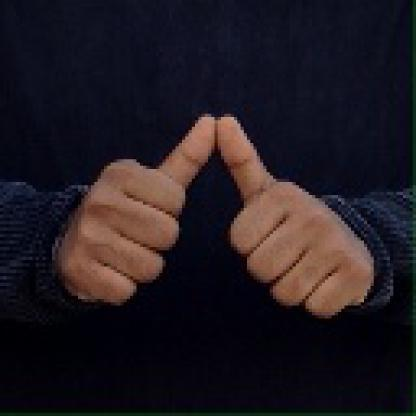A: (54, 105, 372, 319)
